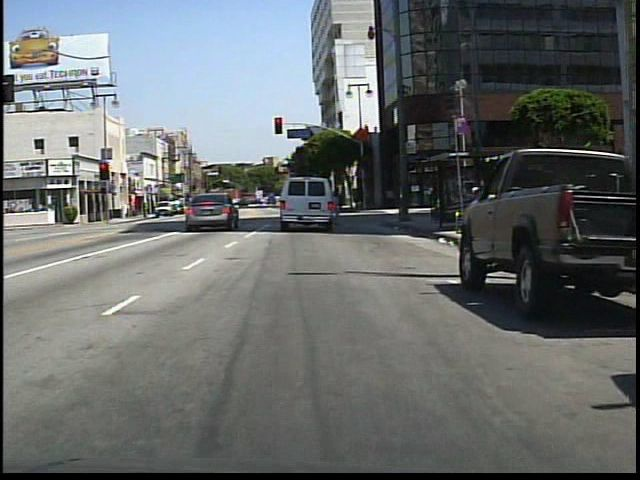person: (323, 182, 345, 225), (207, 193, 222, 218)
